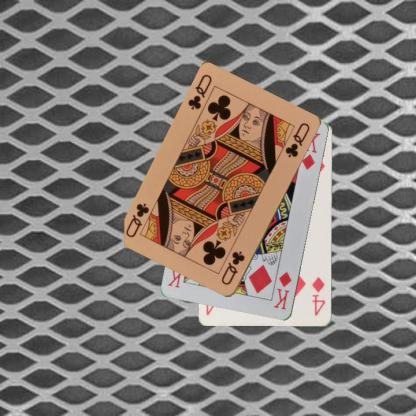4d: (310, 275, 327, 317)
Kd: (271, 270, 294, 312)
Qc: (185, 72, 214, 112), (218, 249, 247, 287)
